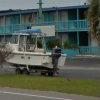Boat: (1, 34, 82, 78)
